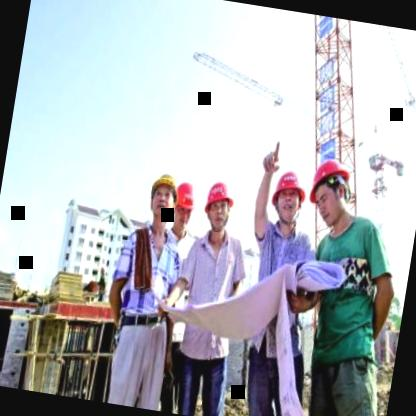helmet: (301, 149, 362, 233), (266, 162, 310, 230), (198, 174, 240, 239), (144, 163, 182, 229), (168, 178, 199, 231)
